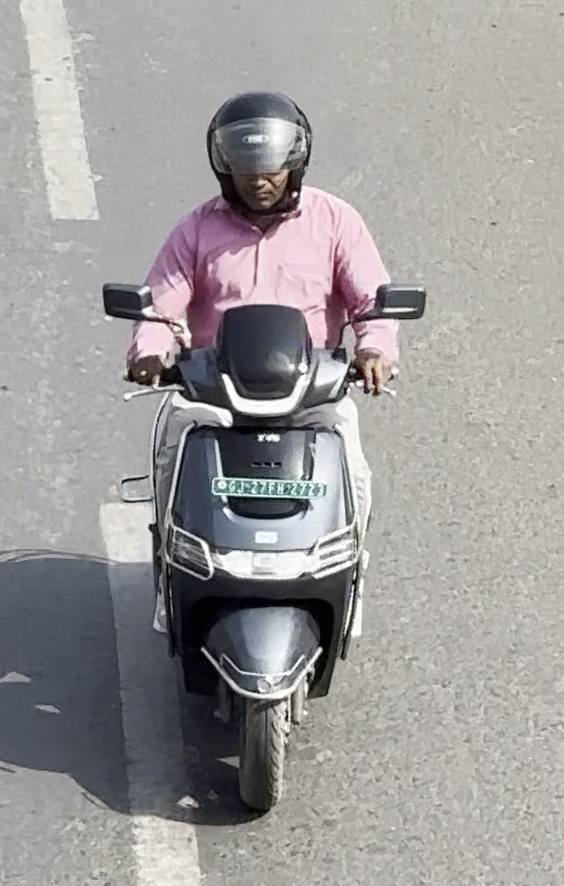BikeWithRider: (89, 80, 436, 822)
Helmet: (193, 81, 326, 225)
